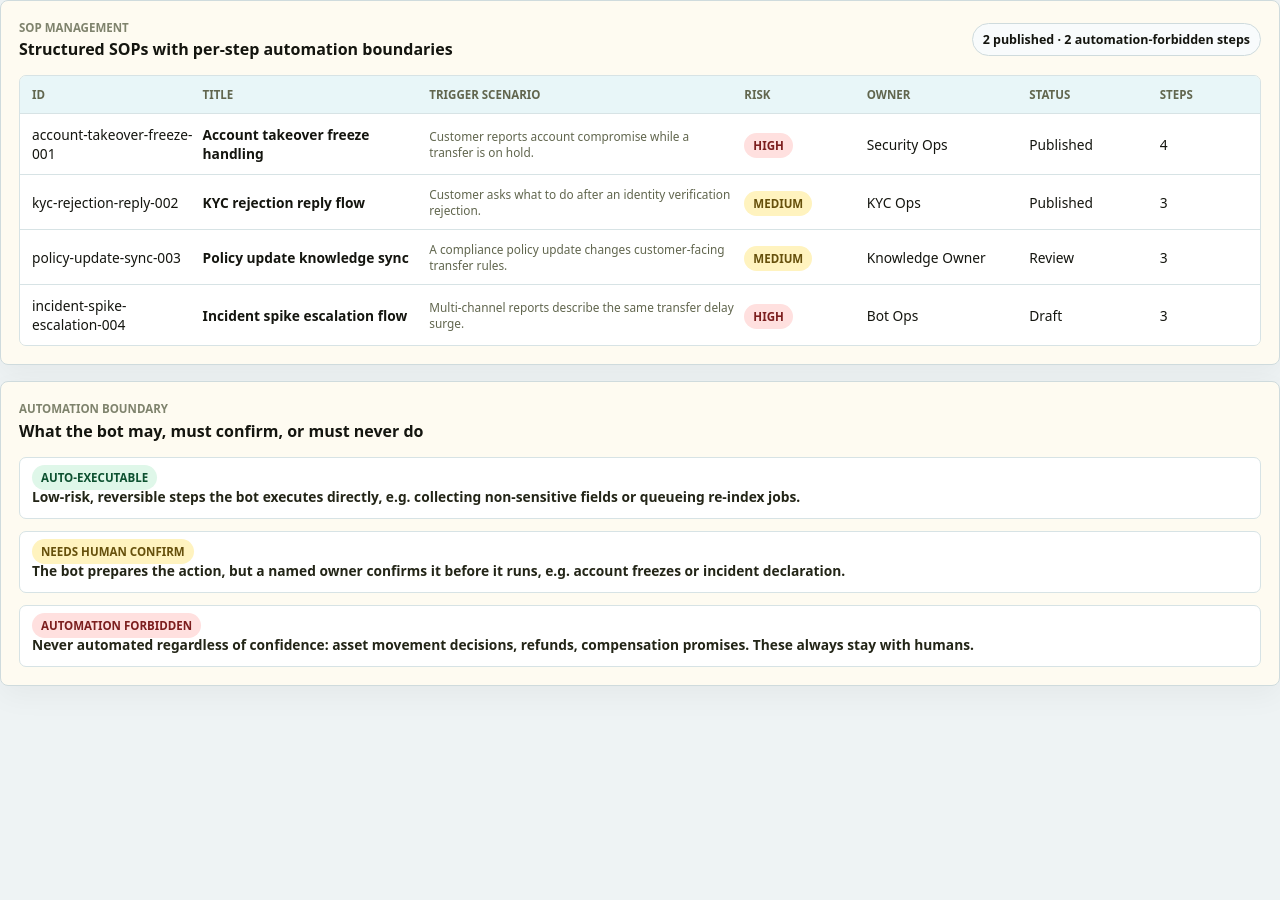
Test case: SopManagement › shows the linked chat flow nodes for the selected SOP
The width and height of the screenshot is (1280, 900).
Click the button "KYC rejection reply flow".
click(640, 203)  # box x1=20 y1=176 x2=1260 y2=230
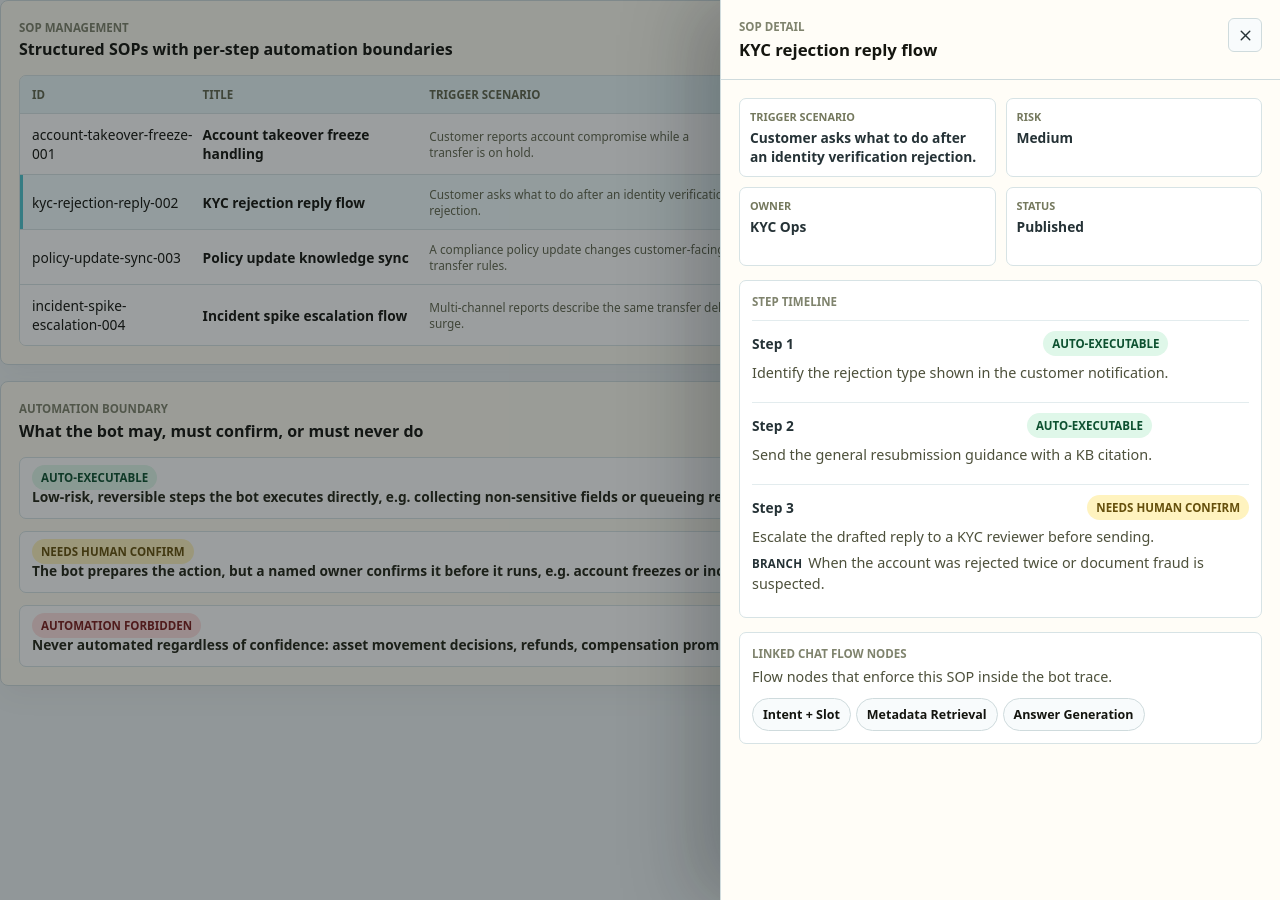
Now the text "Intent + Slot" is shown, box x1=752 y1=698 x2=851 y2=731
Now the text "Metadata Retrieval" is shown, box x1=856 y1=698 x2=998 y2=731
Now the text "Answer Generation" is shown, box x1=1003 y1=698 x2=1145 y2=731
